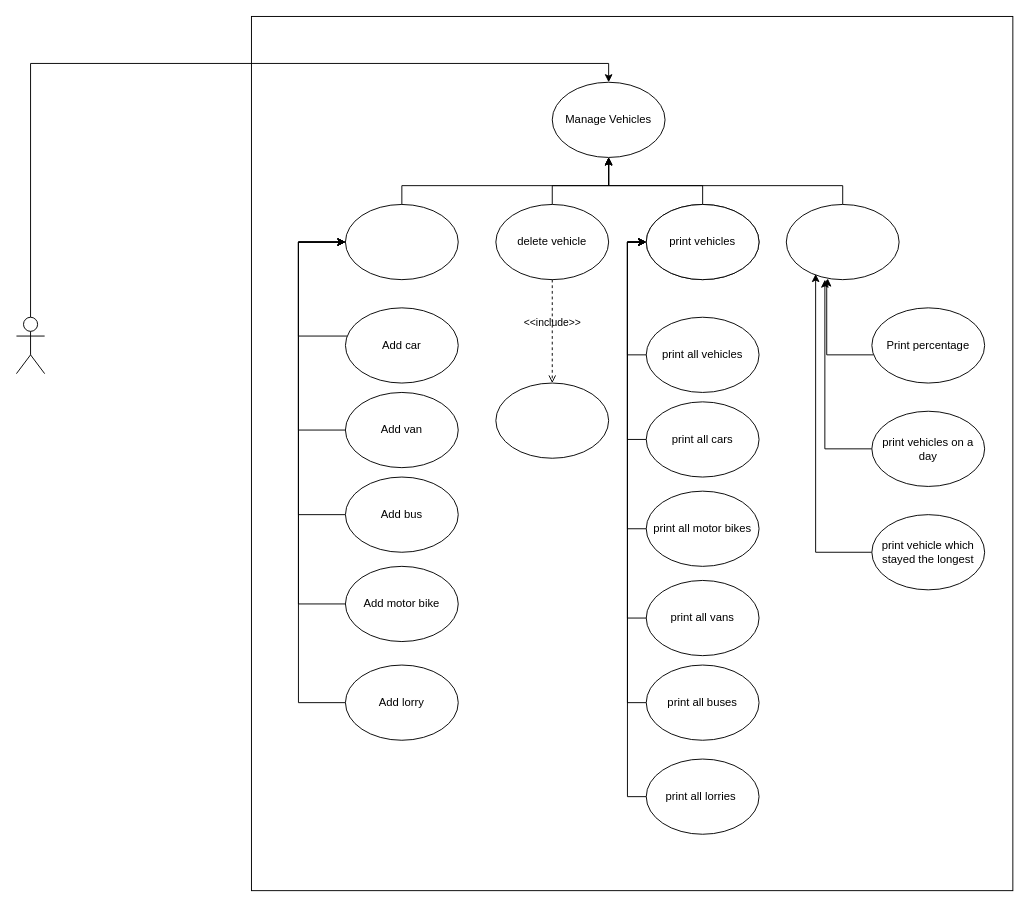
Some shapes in this 1029 by 907 pixel diagram are drawn without their labels. Each missing label, with the centre of its shape:
"Actor" goes at [30,345].
"Add vehicle" goes at [401,242].
"collect fee" goes at [552,420].
"print statistics" goes at [842,242].
